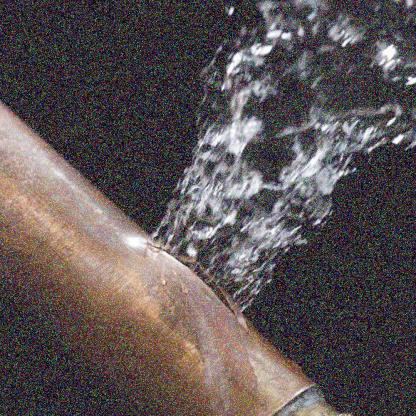burst: (138, 215, 281, 362)
